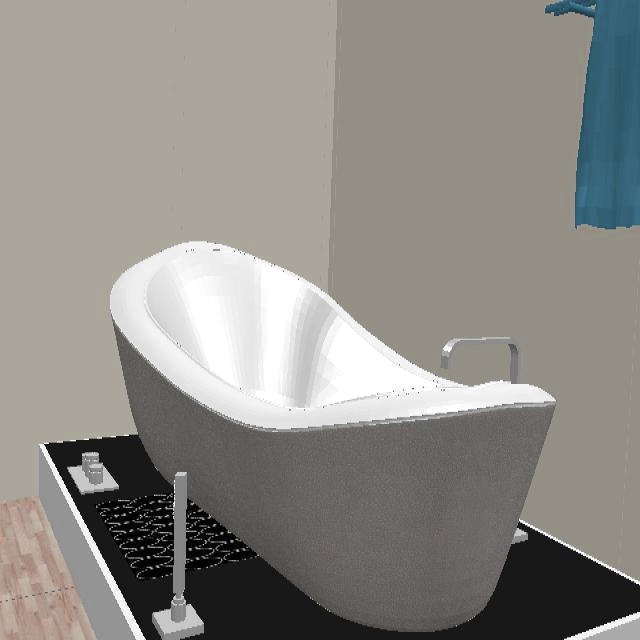bathtube: (109, 241, 557, 633)
